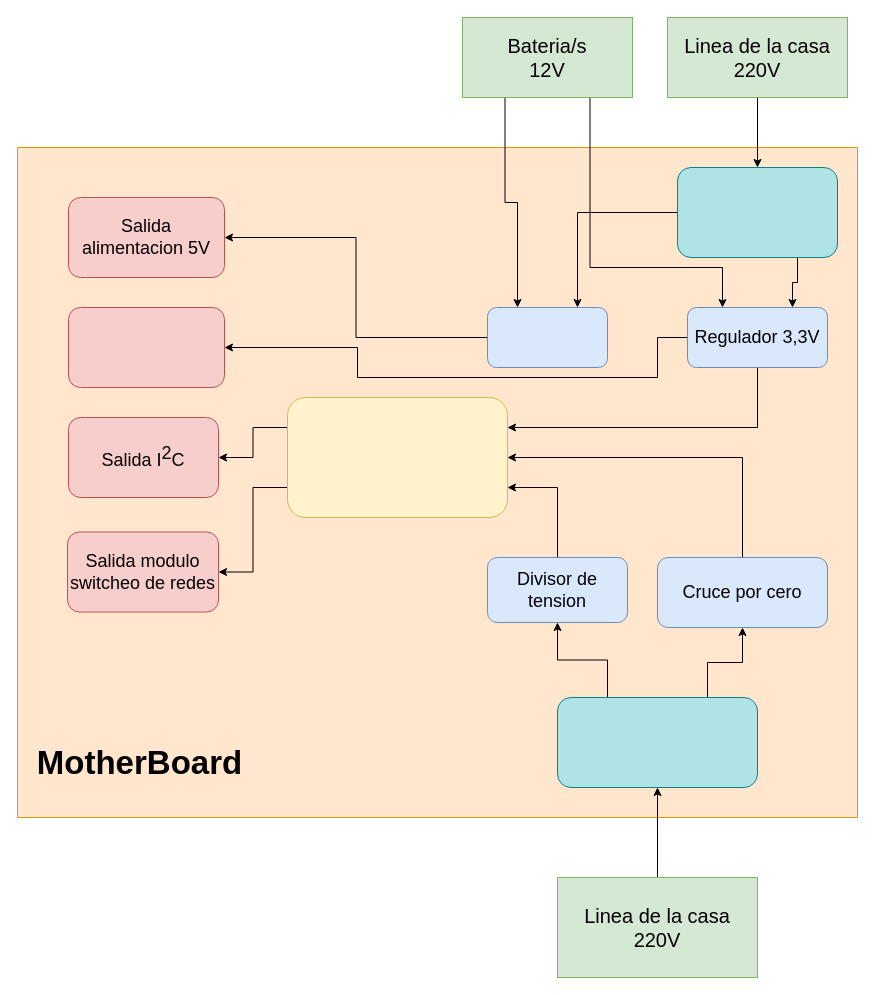
Image size: 875x995. Some labels were removed from this diagram. The shapes that lost their labels are listed below. From the top down, each one's centre as x and y in pixels, then its label:
At (x=757, y=212): "Fuente de alimentacion12V".
At (x=146, y=347): "Salida alimentacion 3,3V".
At (x=547, y=337): "Regulador 5V".
At (x=397, y=457): "ESP32".
At (x=657, y=742): "Transformador 220V-18V".
